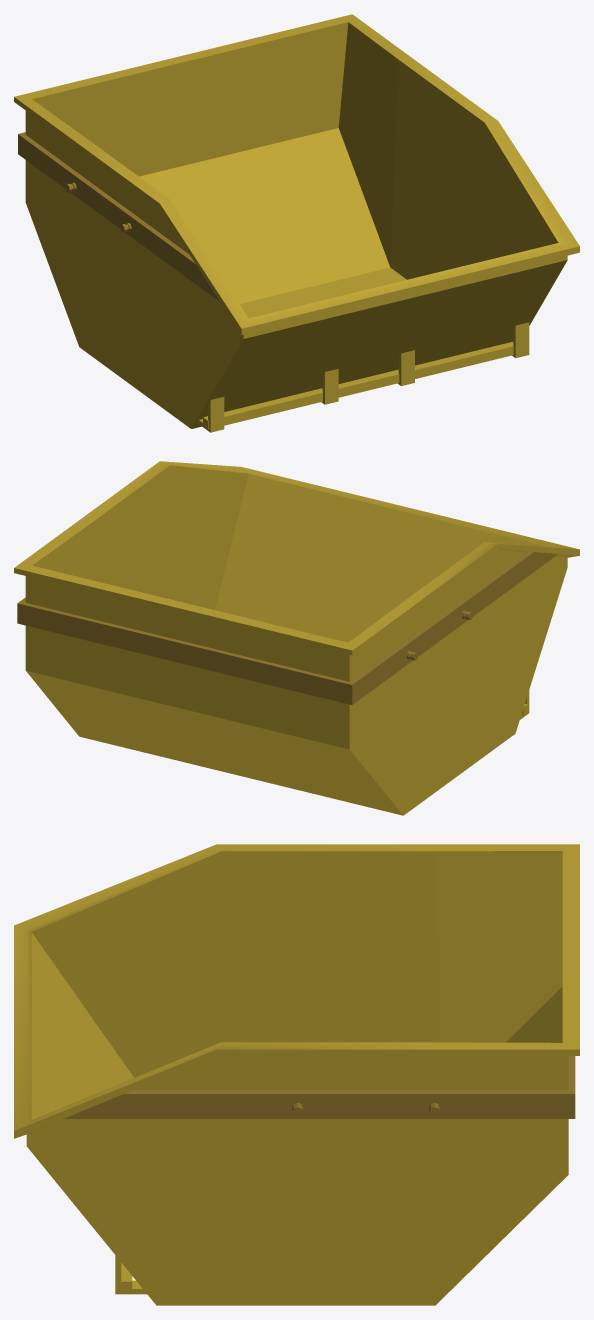
Rendered from CityObjects.fbx_Dumpster.fbx.
The picture shows the model from 3 angles, top to bottom: view 1: azimuth 30°, elevation 25°; view 2: azimuth 150°, elevation 25°; view 3: azimuth 270°, elevation 25°; orthographic projection. The views are drawn at different scales.
Parts seen in each view (by area): view 1: Dumpster; view 2: Dumpster; view 3: Dumpster.
Boxes of the visible parts, left/top/right/bottom form: Dumpster: left=14, top=14, right=579, bottom=432; Dumpster: left=14, top=461, right=579, bottom=815; Dumpster: left=14, top=844, right=579, bottom=1305.
Size of the model in its own units: 183 by 105 by 207.
